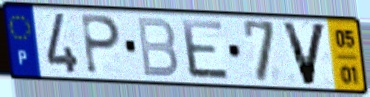4: (45, 11, 81, 77)
7: (240, 18, 279, 86)
B: (135, 15, 181, 80)
E: (179, 17, 233, 83)
P: (79, 12, 123, 77)
V: (279, 20, 330, 88)
